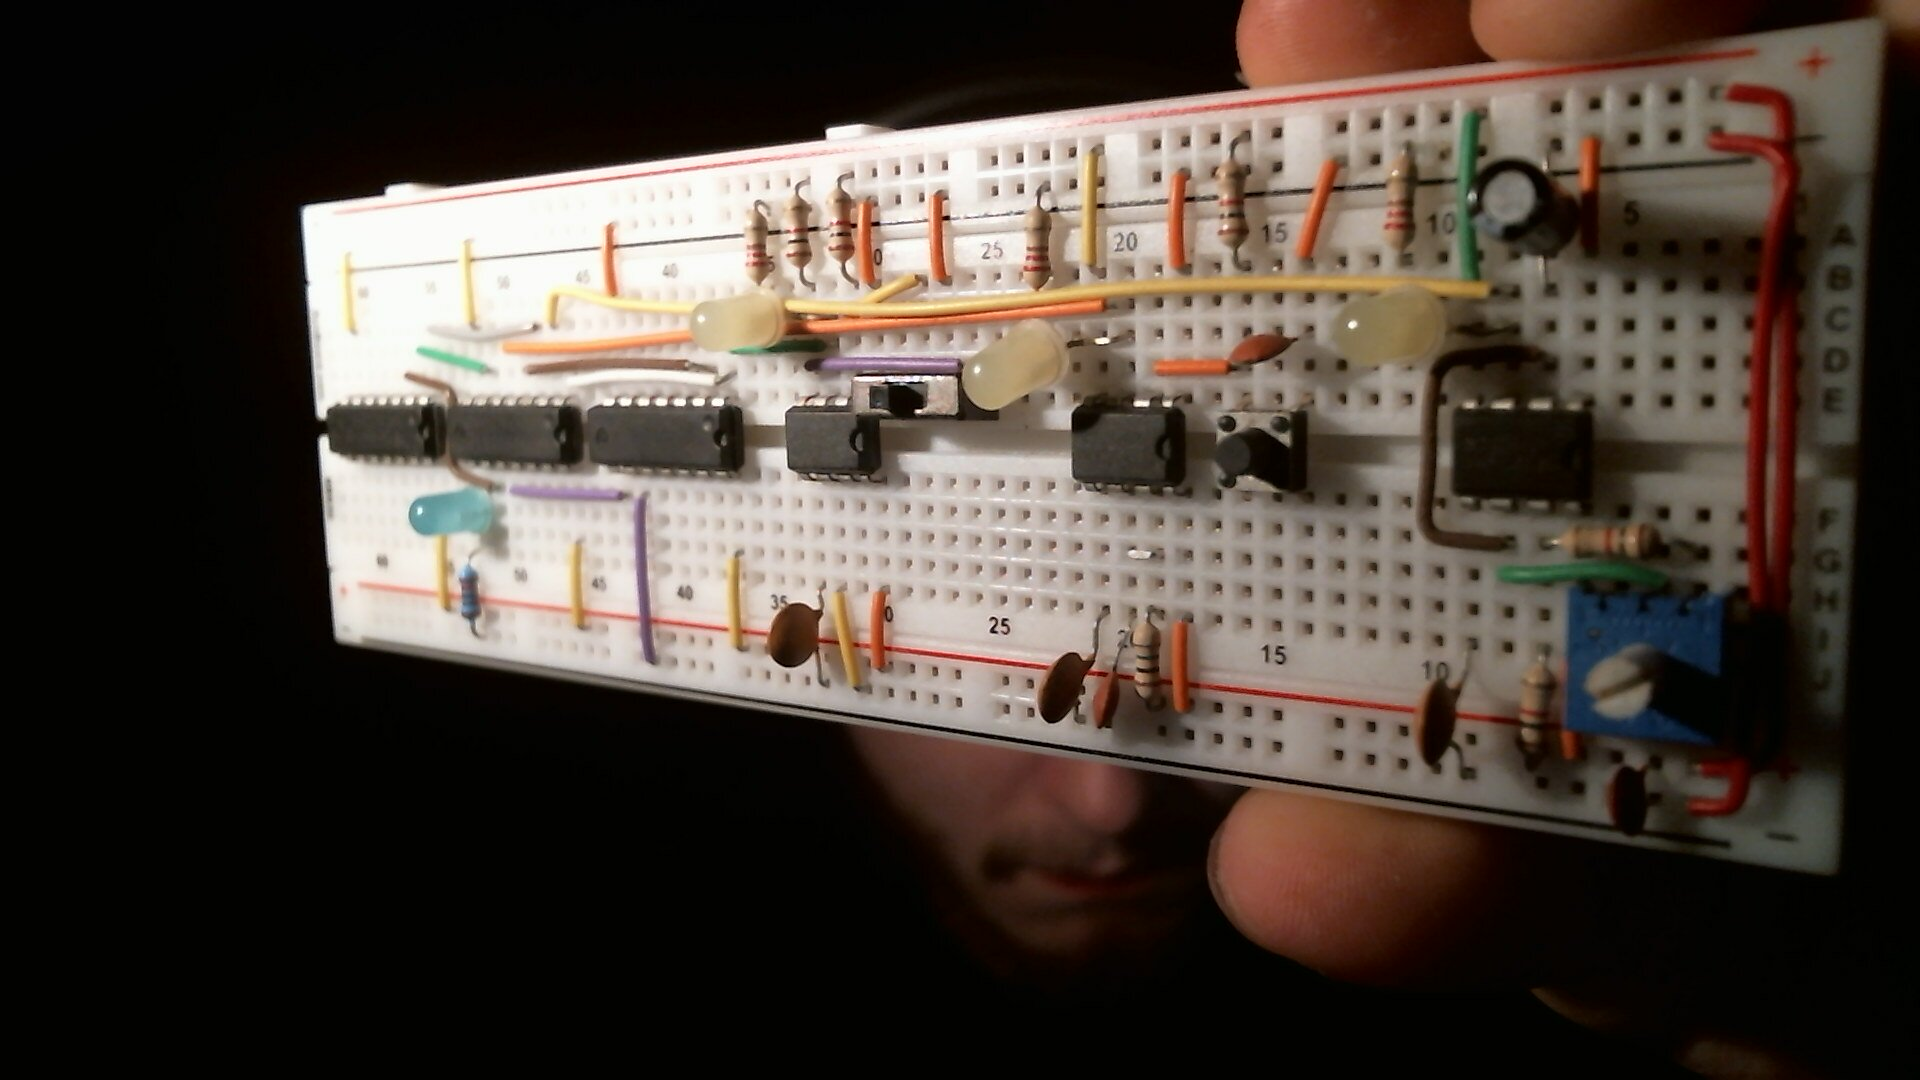IC: (1449, 394, 1596, 513), (584, 398, 746, 479), (1069, 394, 1189, 497), (444, 397, 580, 469), (785, 396, 880, 483)
LED: (959, 316, 1072, 414), (1329, 284, 1448, 371), (688, 290, 786, 357), (406, 485, 493, 543)
ceramic_capacitor: (1412, 676, 1465, 769), (1035, 649, 1091, 727), (765, 601, 824, 671), (1604, 761, 1654, 840), (1225, 331, 1296, 367), (1091, 669, 1122, 732)
electrolytic_capacitor: (1461, 154, 1584, 268)
resistor: (1513, 655, 1557, 769), (1379, 142, 1420, 266), (1555, 520, 1669, 563), (1212, 156, 1251, 262), (1129, 615, 1164, 709), (822, 182, 856, 272), (738, 204, 775, 286), (1021, 202, 1054, 291), (782, 189, 816, 274), (455, 559, 484, 626)
